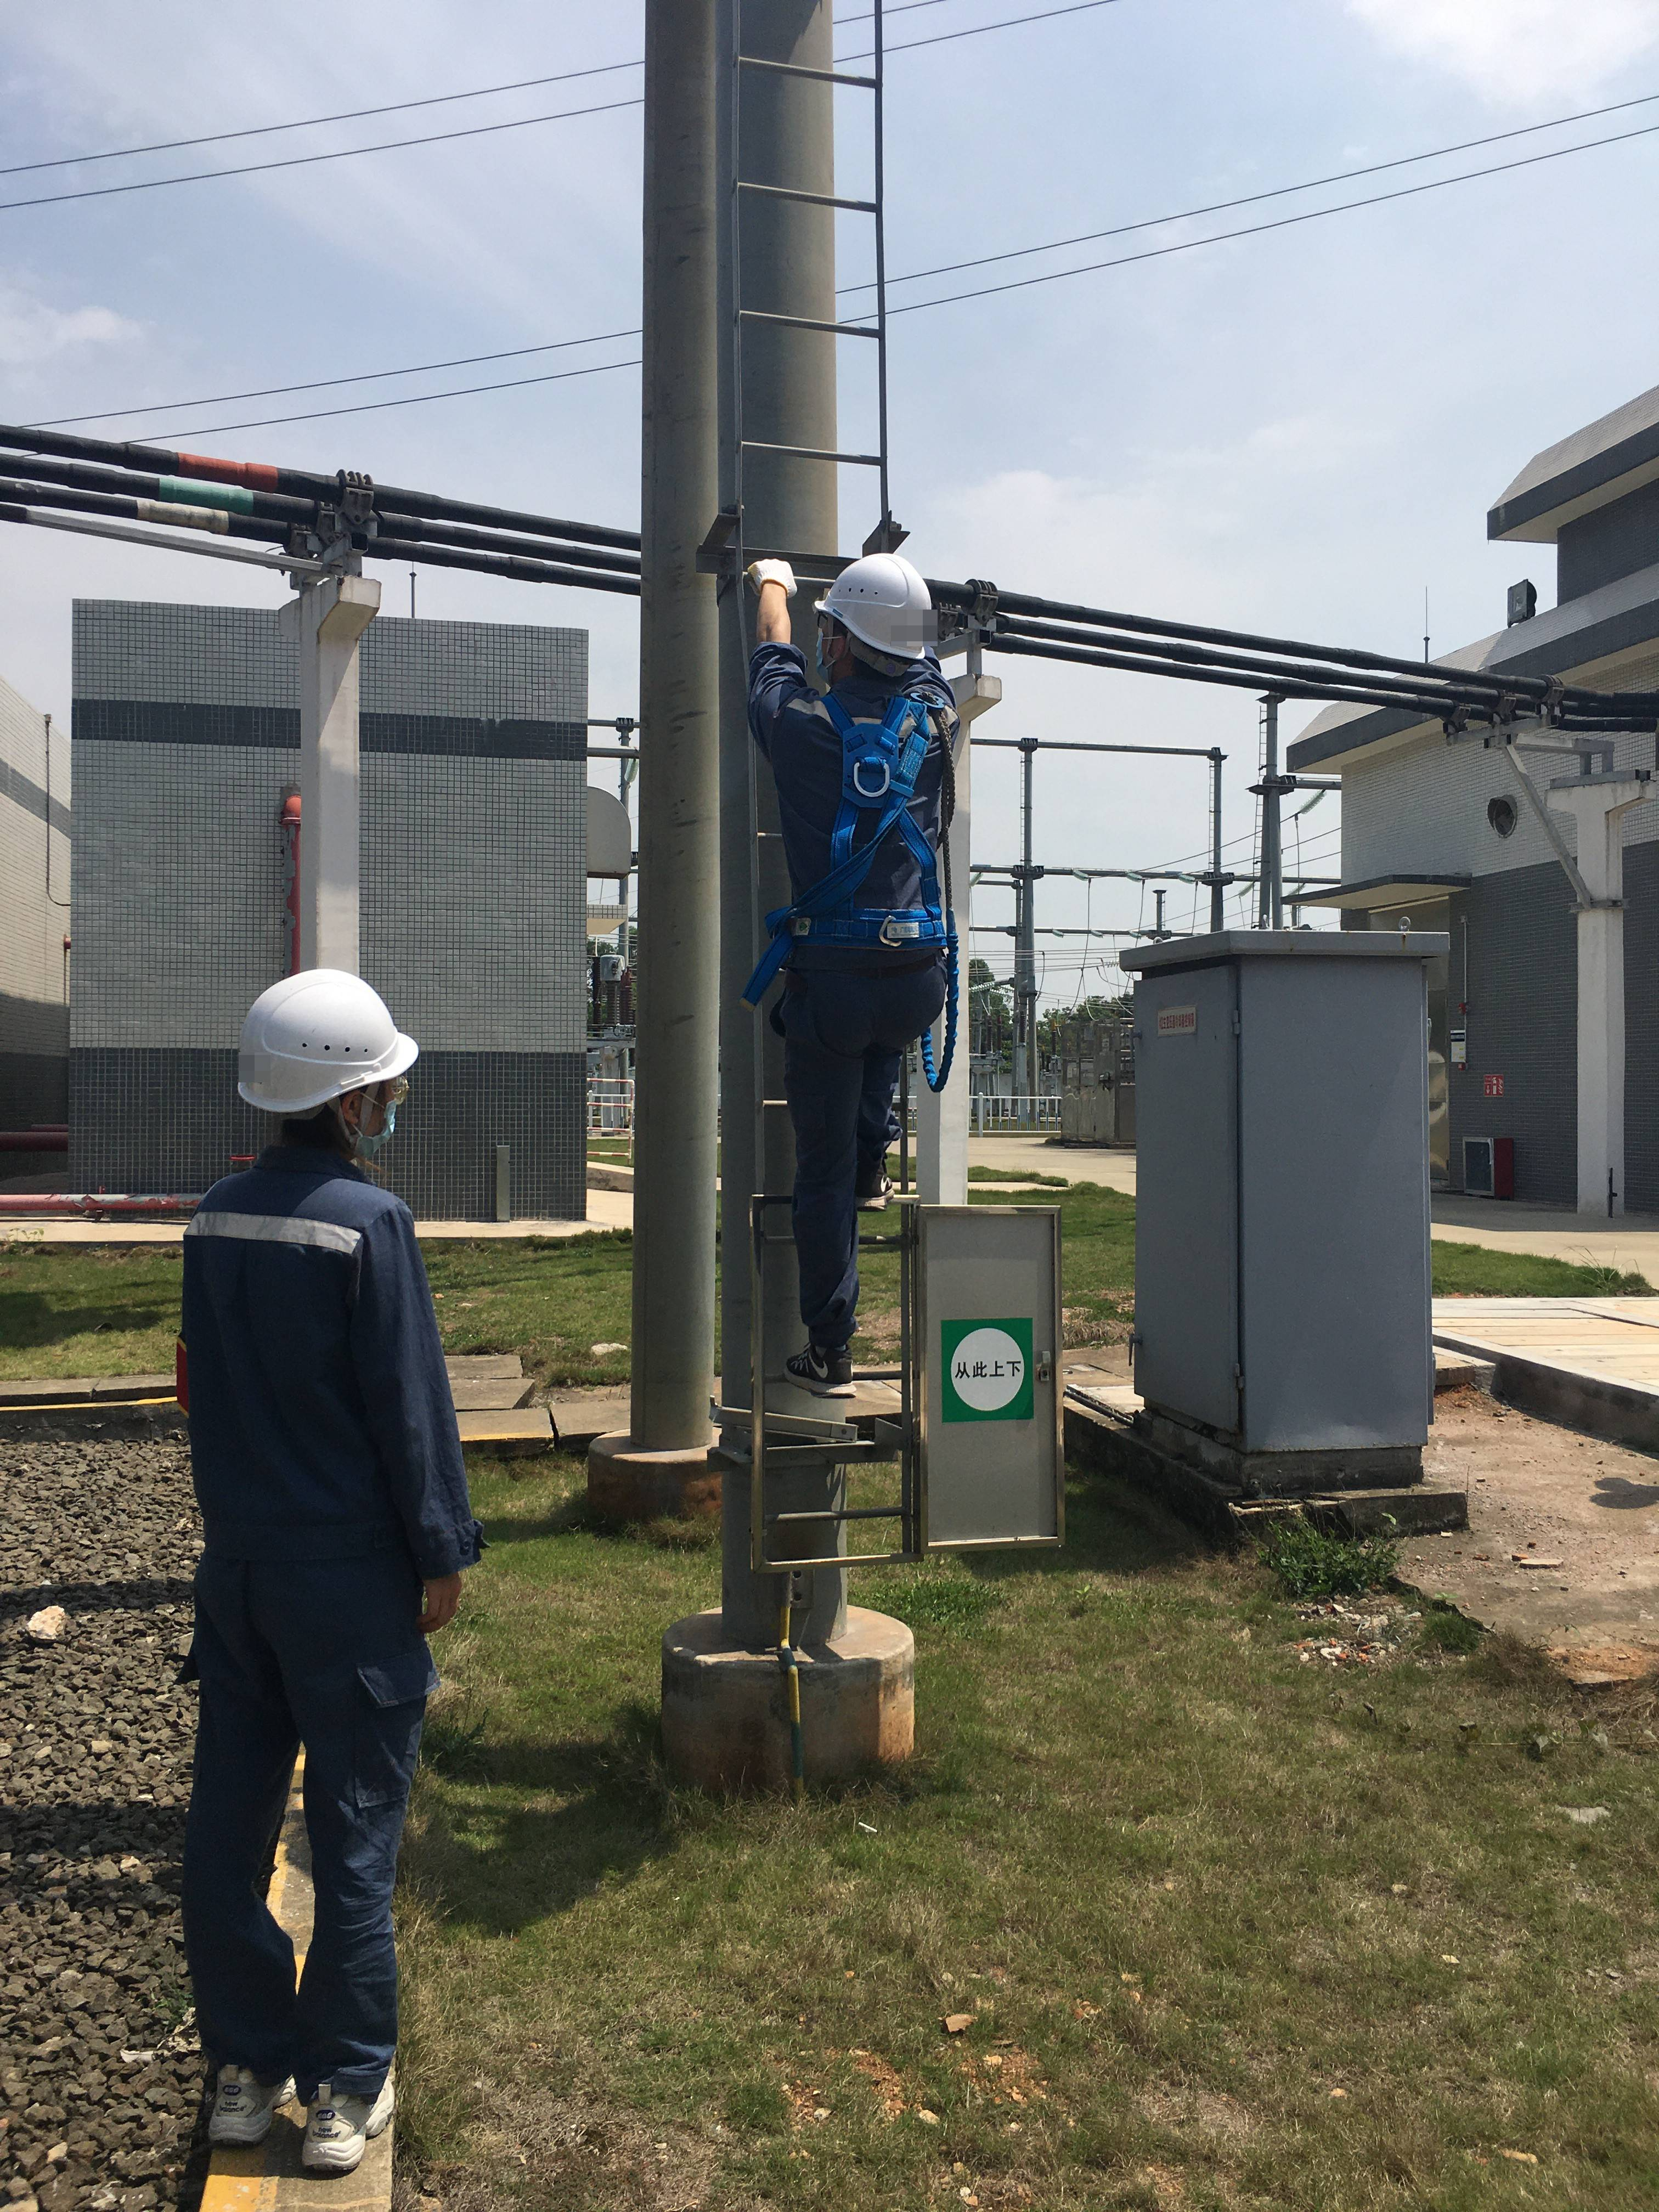downsuit: (179, 1646, 396, 2088), (798, 946, 929, 1336)
upsuit: (188, 1177, 401, 1606), (789, 690, 941, 913)
wrongtop: (758, 577, 802, 681)
